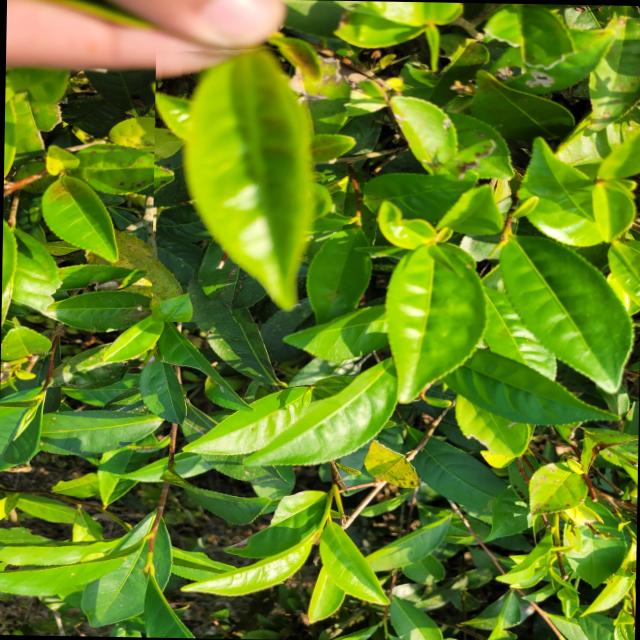Category B(2-4 days): (150, 42, 345, 324)
